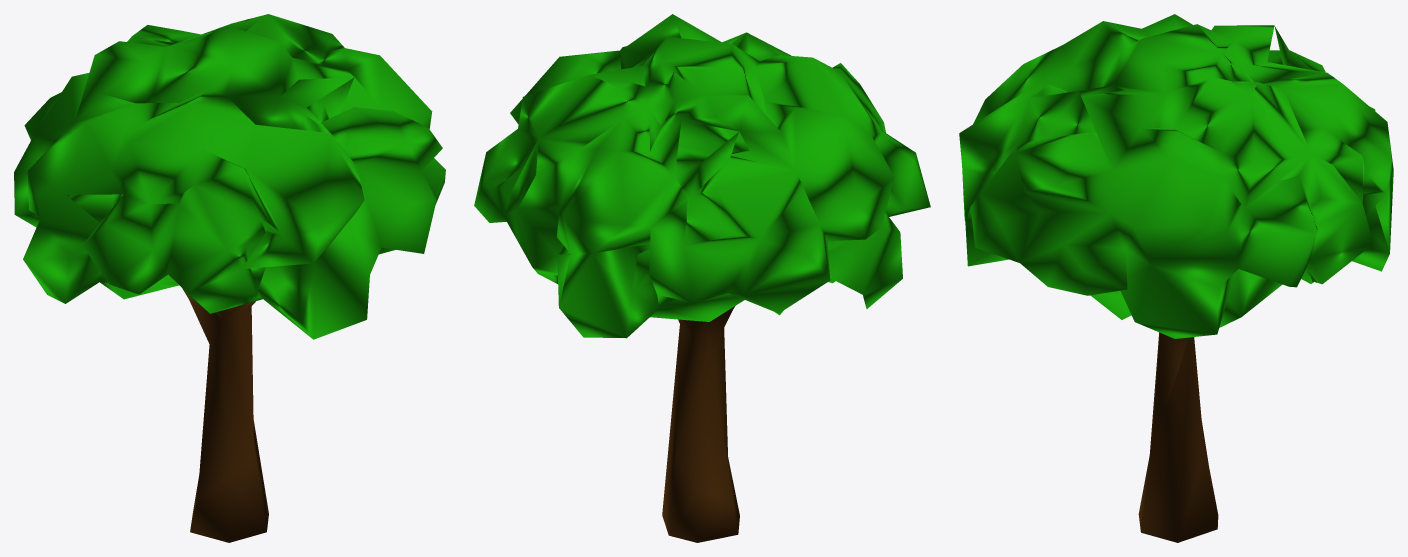
The model's file is gen3d-kapok-tree-lod1.glb.
3 renders of one model, left to right at view 1: azimuth 30°, elevation 25°; view 2: azimuth 150°, elevation 25°; view 3: azimuth 270°, elevation 25°, orthographic.
Visible parts, largest first — view 1: part_0; view 2: part_0; view 3: part_0.
Boxes of the visible parts, box(x1,y1,x2,y2) form: part_0: box(14, 14, 445, 542); part_0: box(474, 14, 930, 542); part_0: box(959, 14, 1393, 542).
Size of the model in its own units: 0.809 by 0.9968 by 0.8179.
